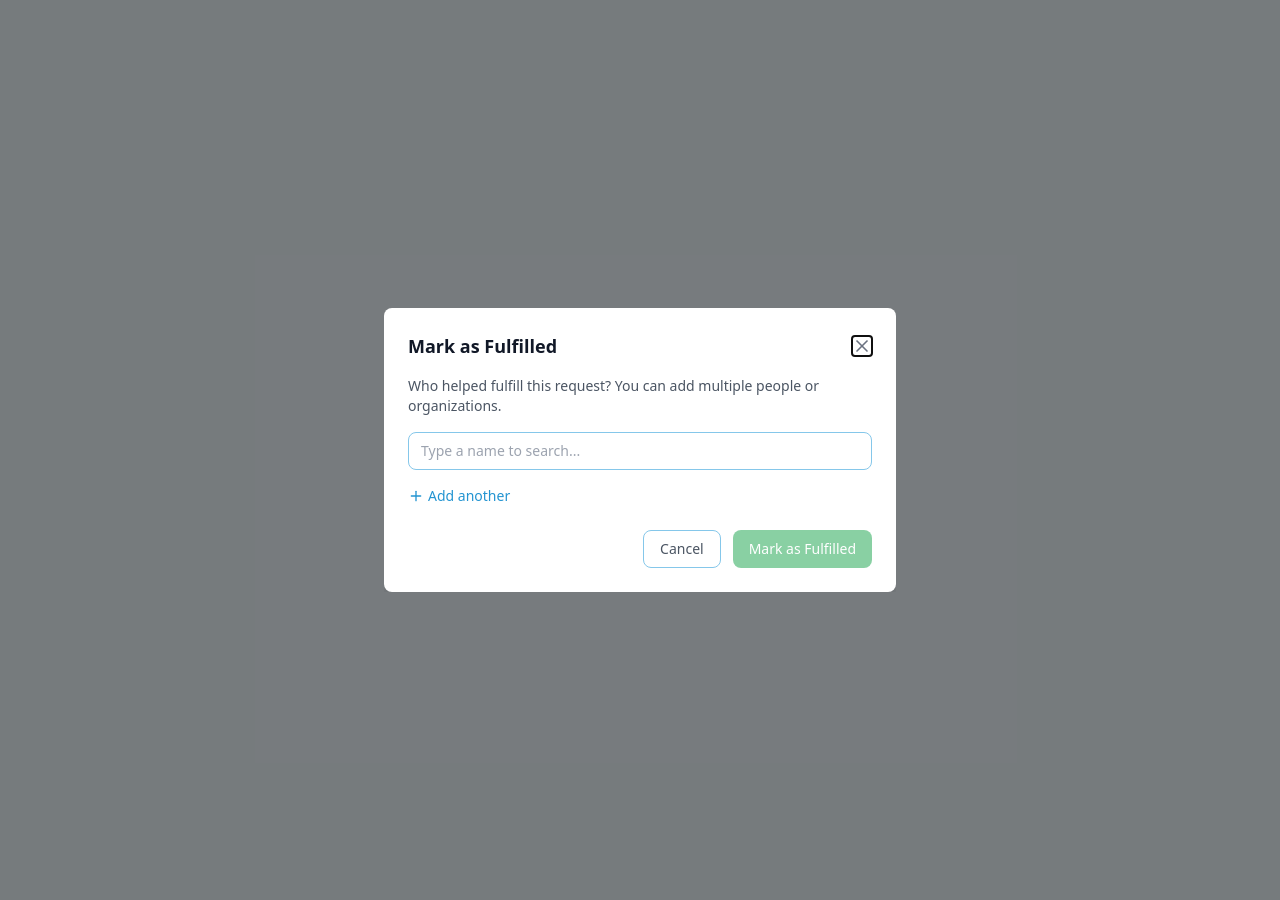
it: FulfillModal — adding and removing fulfillers › adds a new fulfiller input when "Add another" is clicked
Click the button "Add another": (459, 496) [408,486,510,506]
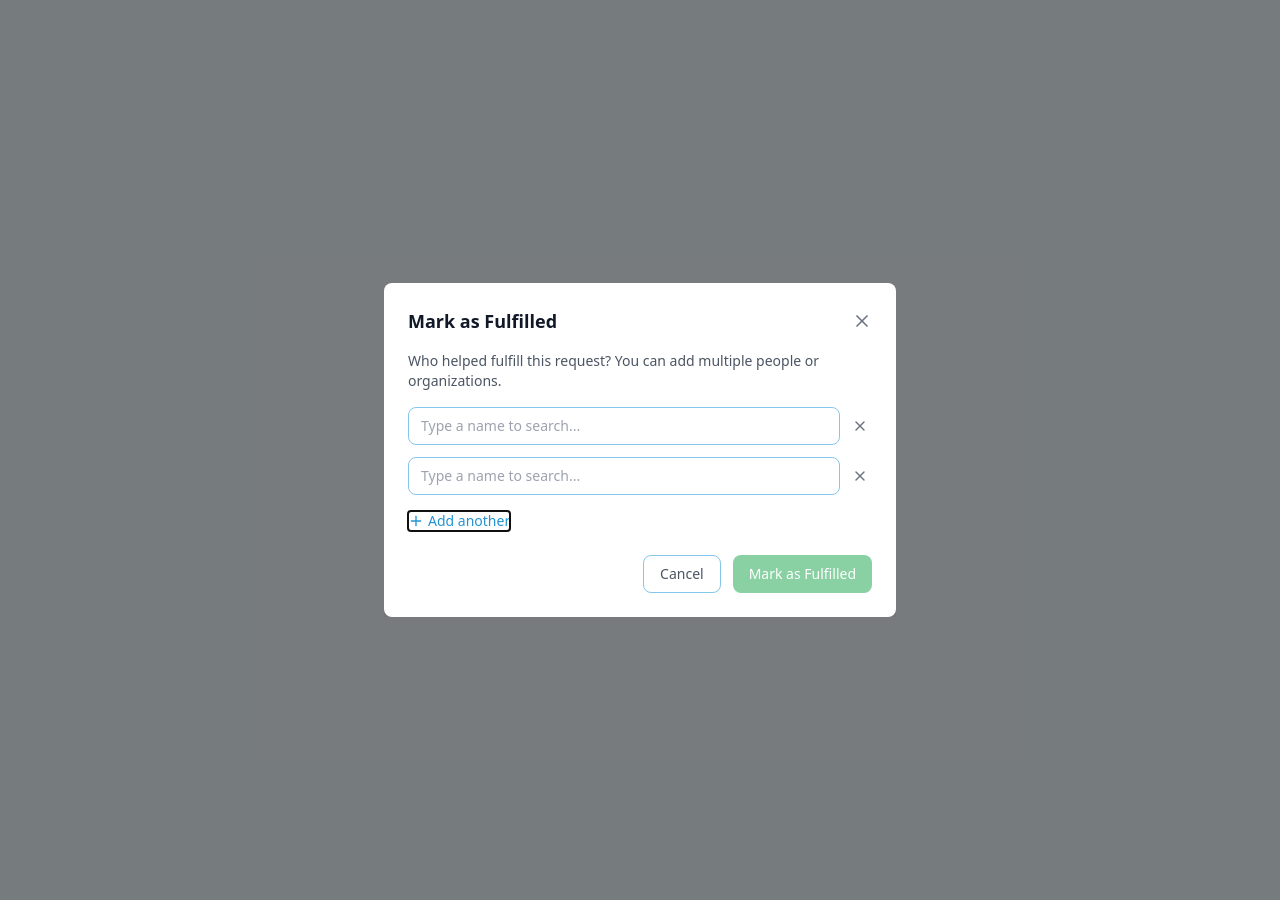
Expected: the number of fields with placeholder "Type a name to search..." is 2, [408,407,840,445]; [408,457,840,495]
